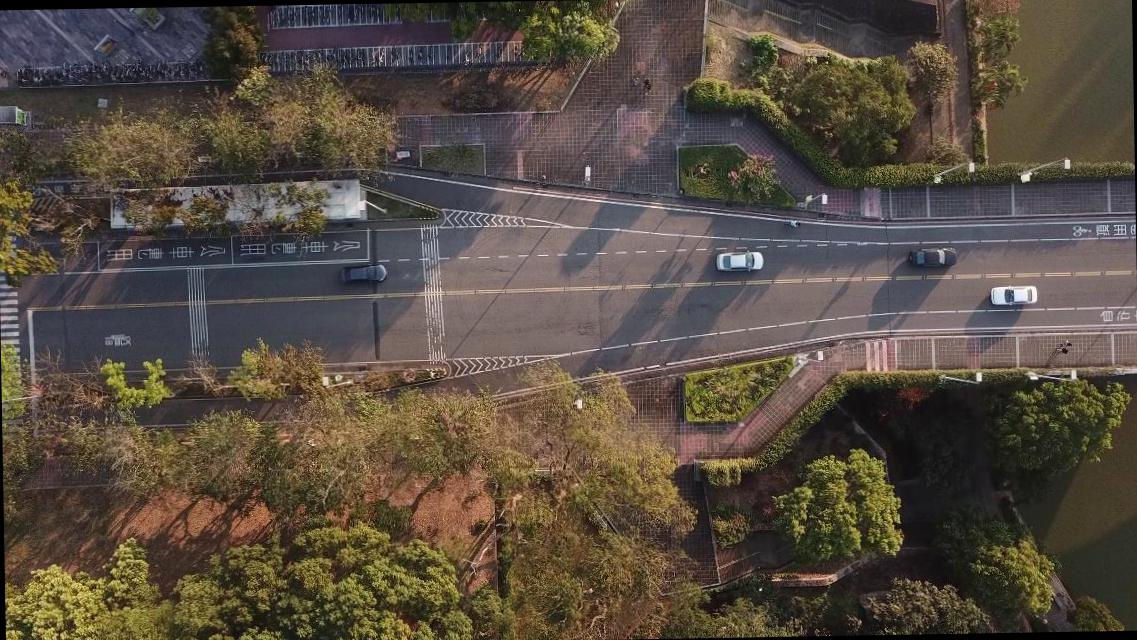vehicle: (909, 244, 957, 267), (716, 250, 763, 272), (990, 284, 1036, 306), (339, 263, 387, 284)
